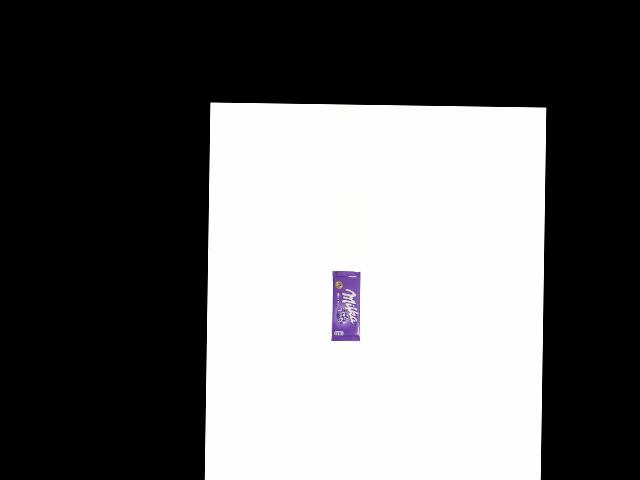chocolate: (327, 270, 362, 345)
